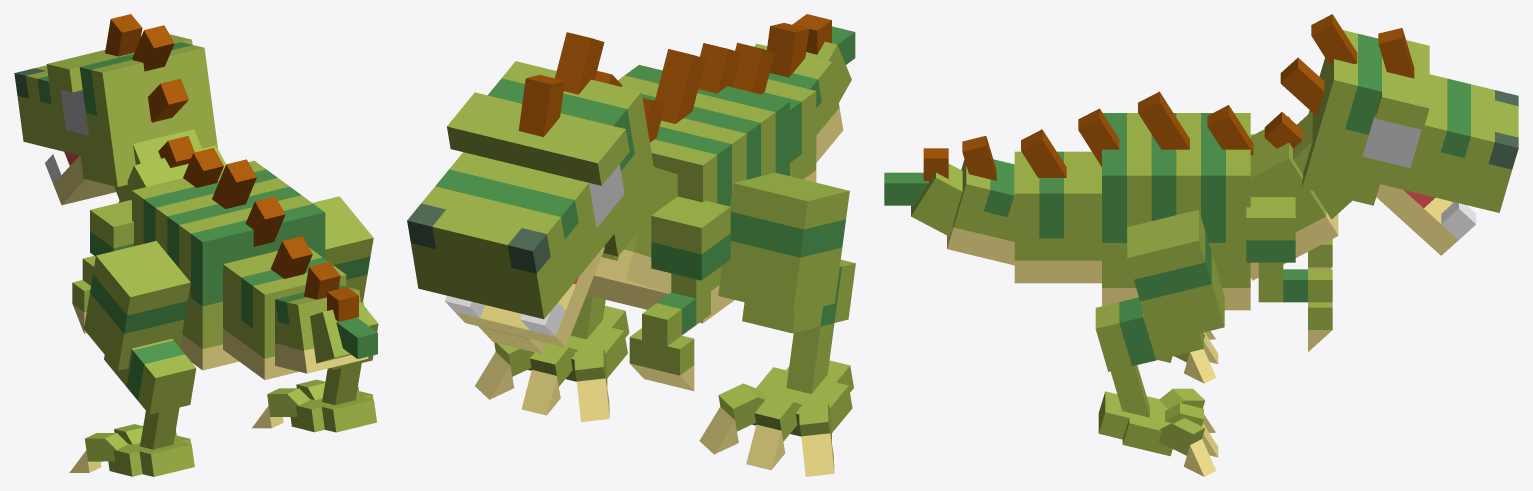
File: forest_giganoto_saurus.obj
3 renders of one model, left to right at view 1: azimuth 30°, elevation 25°; view 2: azimuth 150°, elevation 25°; view 3: azimuth 270°, elevation 25°, orthographic. The views are drawn at different scales.
Parts seen in each view (by area): view 1: Head, LowerTorso, Tail, LeftUpperLeg, LeftLowerLeg, RightFoot, LeftFoot, RightUpperLeg, UpperTorso, LeftUpperArm, Mouth, RightLowerLeg (+2 smaller); view 2: Head, LowerTorso, LeftUpperLeg, Tail, LeftFoot, RightFoot, LeftUpperArm, LeftLowerLeg, LeftLowerArm, Mouth, UpperTorso, Head_decal1 (+2 smaller); view 3: Head, LowerTorso, Tail, RightUpperLeg, UpperTorso, RightFoot, RightLowerLeg, RightUpperArm, Mouth, RightLowerArm, Head_decal2, LeftFoot.
Part boxes in pixels (box(x1,y1,x2,y2)): Head: box(14, 14, 217, 186); LowerTorso: box(132, 148, 325, 370); Tail: box(223, 236, 377, 379); LeftUpperLeg: box(84, 241, 190, 370); LeftLowerLeg: box(104, 339, 196, 449); RightFoot: box(252, 379, 376, 432); LeftFoot: box(69, 424, 194, 476); RightUpperLeg: box(313, 196, 373, 302); UpperTorso: box(114, 129, 226, 202); LeftUpperArm: box(90, 200, 133, 256); Mouth: box(45, 151, 115, 205); RightLowerLeg: box(322, 307, 378, 404); Head: box(407, 32, 659, 319); LowerTorso: box(586, 43, 789, 323); LeftUpperLeg: box(718, 172, 849, 313); Tail: box(732, 14, 855, 182); LeftFoot: box(699, 360, 853, 476); RightFoot: box(475, 305, 629, 421); LeftUpperArm: box(651, 196, 730, 324); LeftLowerLeg: box(742, 259, 855, 393); LeftLowerArm: box(629, 292, 696, 390); Mouth: box(445, 246, 604, 347); UpperTorso: box(594, 167, 677, 293); Head_decal1: box(589, 164, 624, 227); Head: box(1280, 14, 1518, 212); LowerTorso: box(1078, 91, 1253, 310); Tail: box(884, 129, 1101, 283); RightUpperLeg: box(1127, 210, 1224, 344); UpperTorso: box(1250, 111, 1351, 280); RightFoot: box(1098, 388, 1218, 476); RightLowerLeg: box(1095, 297, 1203, 417); RightUpperArm: box(1246, 197, 1295, 302); Mouth: box(1376, 184, 1476, 255); RightLowerArm: box(1283, 269, 1332, 351); Head_decal2: box(1362, 114, 1421, 167); LeftFoot: box(1159, 331, 1218, 383).
Bounding box in the file's own units: 17.86 × 21.54 × 32.06.
